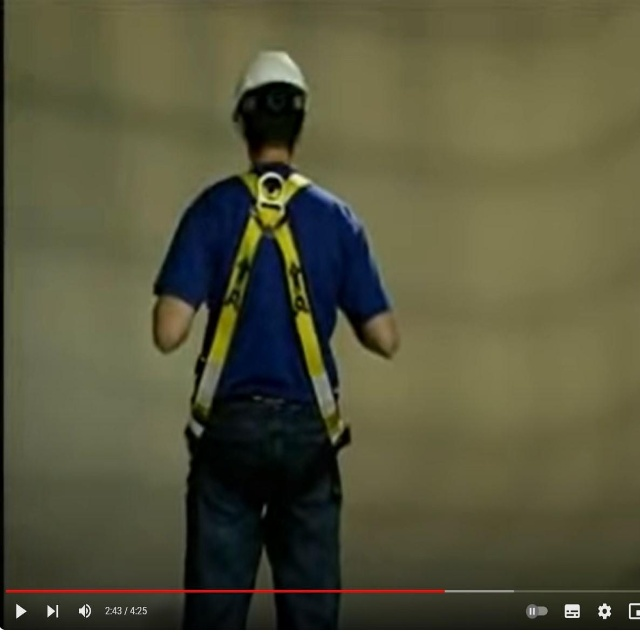Arnes_seguridad: (182, 166, 354, 467)
